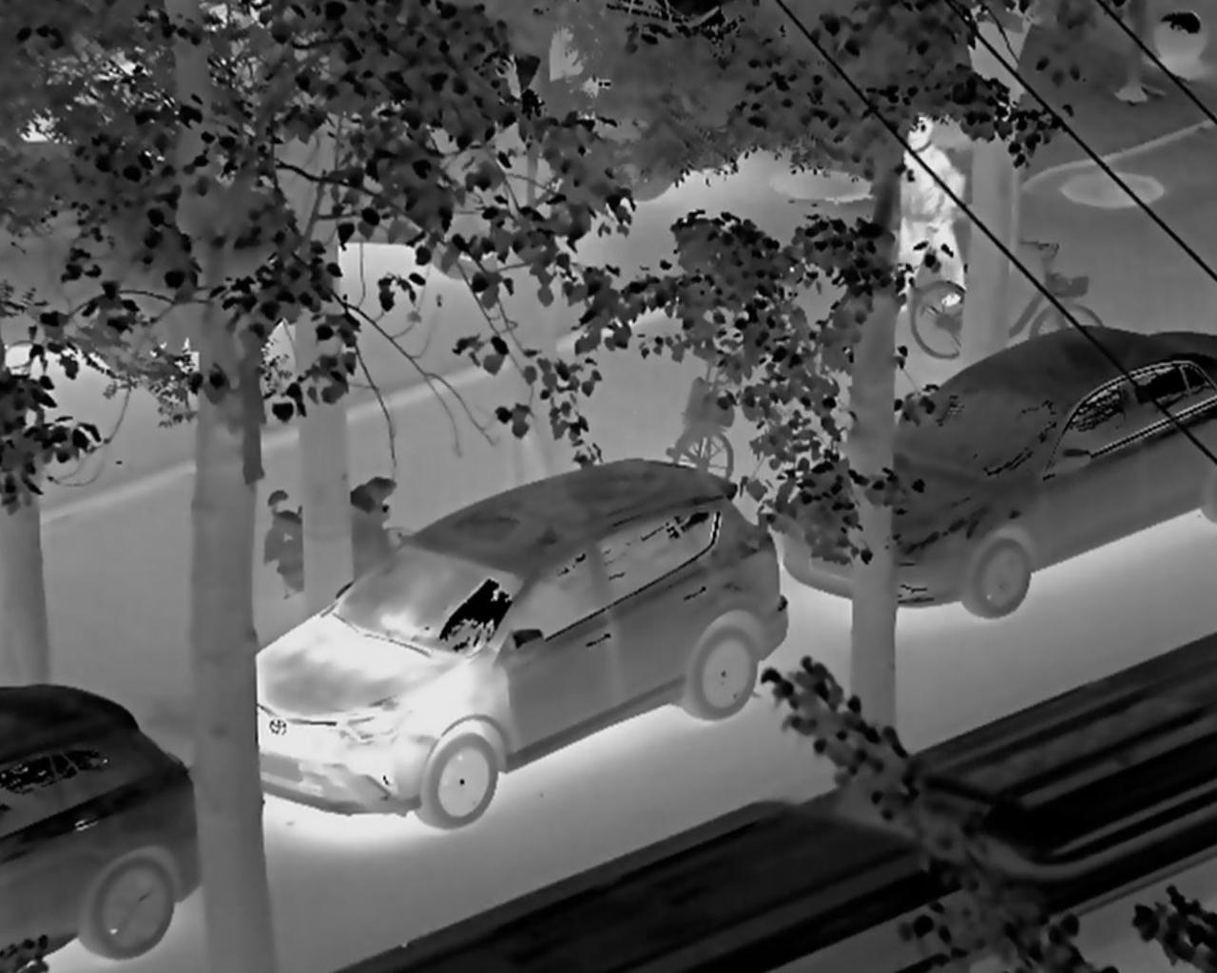person: (873, 111, 985, 317)
